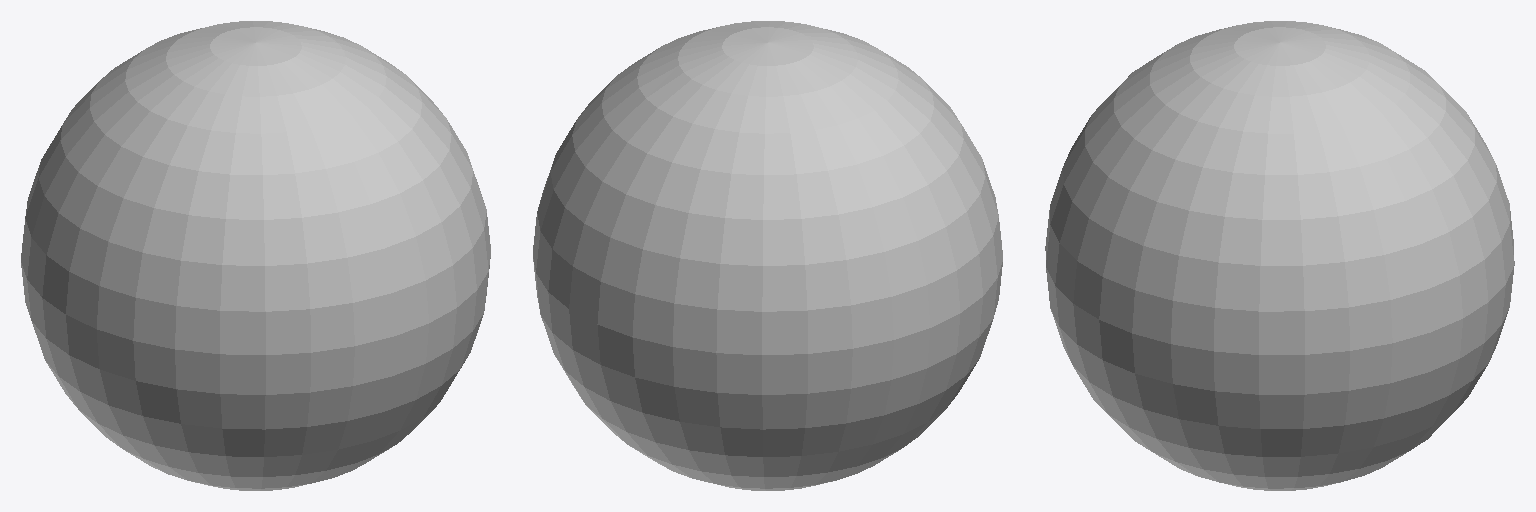
The model's file is mars.obj.
3 renders of one model, left to right at view 1: azimuth 30°, elevation 25°; view 2: azimuth 150°, elevation 25°; view 3: azimuth 270°, elevation 25°, orthographic.
Visible parts, largest first — view 1: Mars_Sphere.003; view 2: Mars_Sphere.003; view 3: Mars_Sphere.003.
Part boxes in pixels (left/top/right/bottom): Mars_Sphere.003: left=21, top=21, right=490, bottom=490; Mars_Sphere.003: left=533, top=21, right=1002, bottom=490; Mars_Sphere.003: left=1045, top=21, right=1514, bottom=490.
Bounding box in the file's own units: 0.4781 × 0.48 × 0.4781.